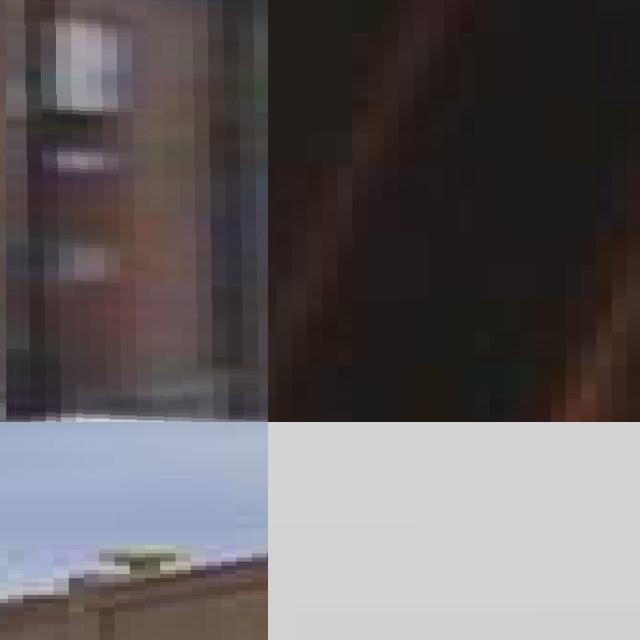street light: (6, 0, 268, 422)
